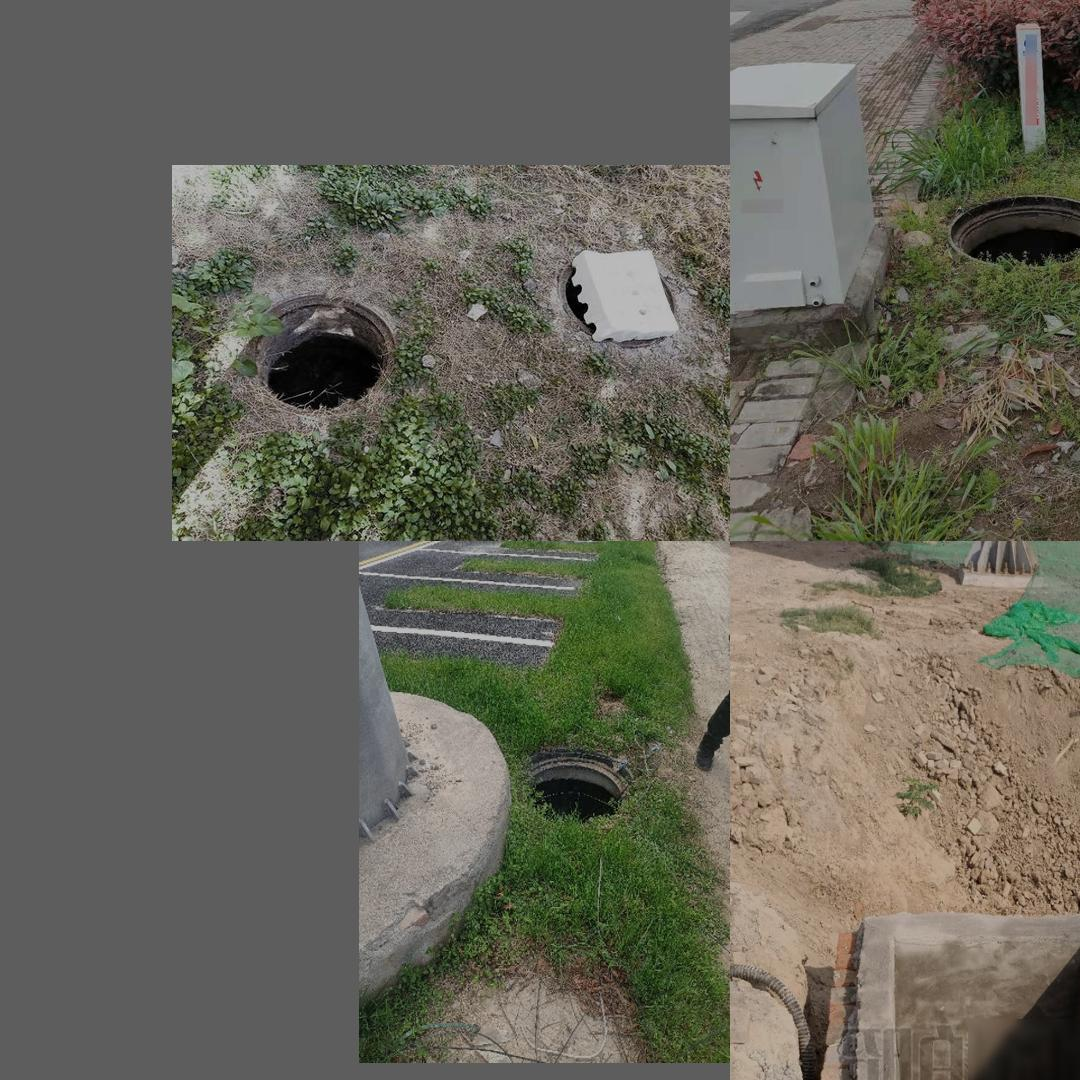lose: (854, 915, 1080, 1080), (217, 281, 408, 435), (938, 185, 1080, 265), (514, 748, 638, 827)
